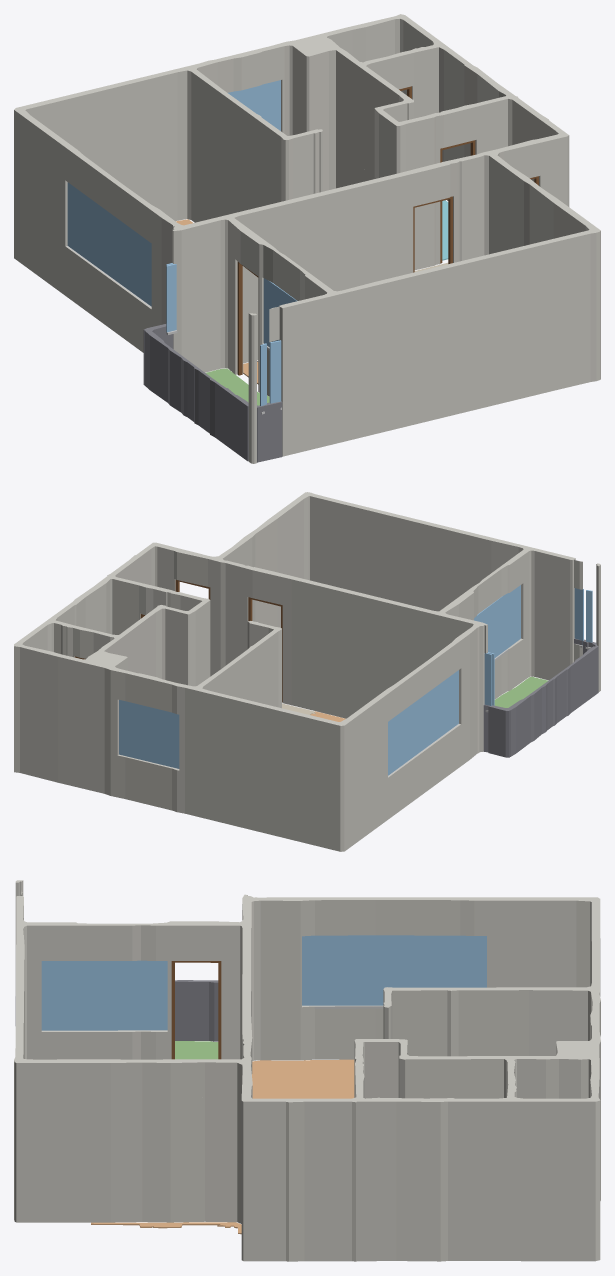
3 views of the same model, one above another, from view 1: azimuth 30°, elevation 25°; view 2: azimuth 150°, elevation 25°; view 3: azimuth 270°, elevation 25° (orthographic). The views are drawn at different scales.
Visible parts, largest first — view 1: walls, railings, window_6, window_5, window_9, window_11, window_8, floor_0_Outdoor, door_4; view 2: walls, railings, window_6, window_5, window_9, floor_0_Outdoor, window_11; view 3: walls, window_6, window_9, floor_4_Living_Room, railings, door_4, floor_0_Outdoor, floor_2_Living_Room.
Boxes of the visible parts, x1=… form: walls: x1=14, y1=14, x2=600, y2=463; railings: x1=143, y1=324, x2=282, y2=462; window_6: x1=67, y1=182, x2=151, y2=306; window_5: x1=228, y1=80, x2=280, y2=130; window_9: x1=263, y1=278, x2=297, y2=346; window_11: x1=269, y1=340, x2=281, y2=403; window_8: x1=166, y1=264, x2=176, y2=332; floor_0_Outdoor: x1=206, y1=368, x2=269, y2=405; door_4: x1=237, y1=262, x2=258, y2=375; walls: x1=14, y1=492, x2=600, y2=851; railings: x1=483, y1=638, x2=598, y2=757; window_6: x1=388, y1=670, x2=458, y2=775; window_5: x1=119, y1=700, x2=179, y2=768; window_9: x1=474, y1=585, x2=520, y2=657; floor_0_Outdoor: x1=494, y1=676, x2=547, y2=707; window_11: x1=574, y1=588, x2=583, y2=645; walls: x1=14, y1=880, x2=600, y2=1261; window_6: x1=302, y1=935, x2=486, y2=1005; window_9: x1=41, y1=960, x2=167, y2=1030; floor_4_Living_Room: x1=252, y1=1059, x2=354, y2=1098; railings: x1=15, y1=980, x2=218, y2=1041; door_4: x1=171, y1=961, x2=221, y2=1059; floor_0_Outdoor: x1=175, y1=1041, x2=218, y2=1059; floor_2_Living_Room: x1=91, y1=1222, x2=241, y2=1234.
Bounding box in the file's own units: 8.09 × 2.72 × 9.01.
